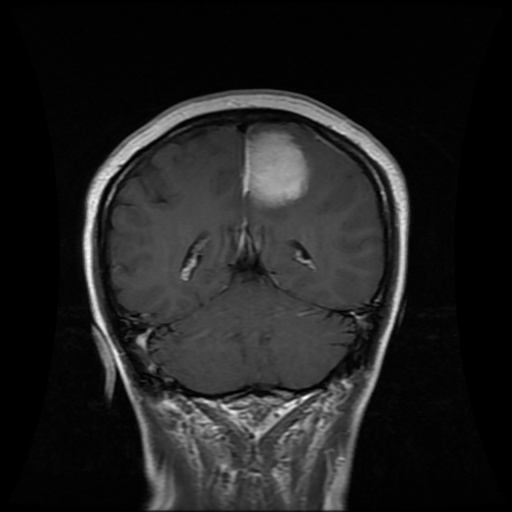meningioma: (244, 129, 309, 207)
